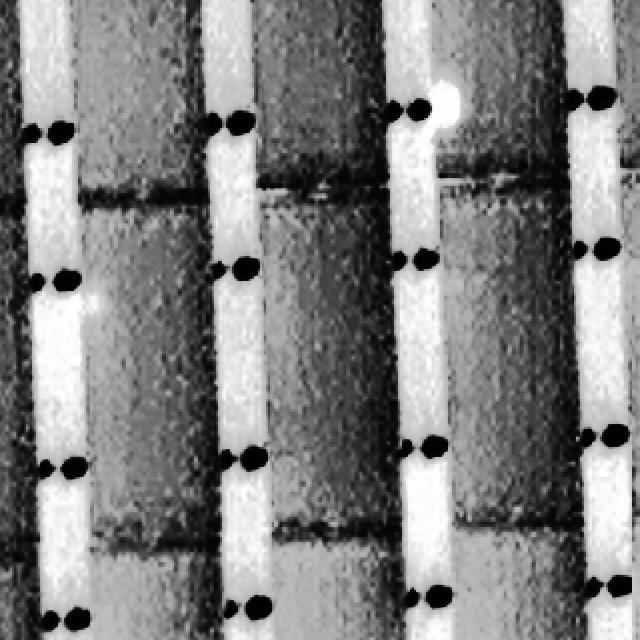Hotspots: (424, 67, 474, 138), (76, 276, 118, 344)
PV-modules: (433, 181, 586, 528), (75, 196, 220, 552), (256, 192, 404, 537), (245, 0, 394, 197), (67, 0, 212, 200), (430, 0, 571, 186), (452, 523, 590, 640), (0, 204, 46, 553), (269, 536, 409, 640), (92, 542, 227, 640), (0, 550, 43, 640)
